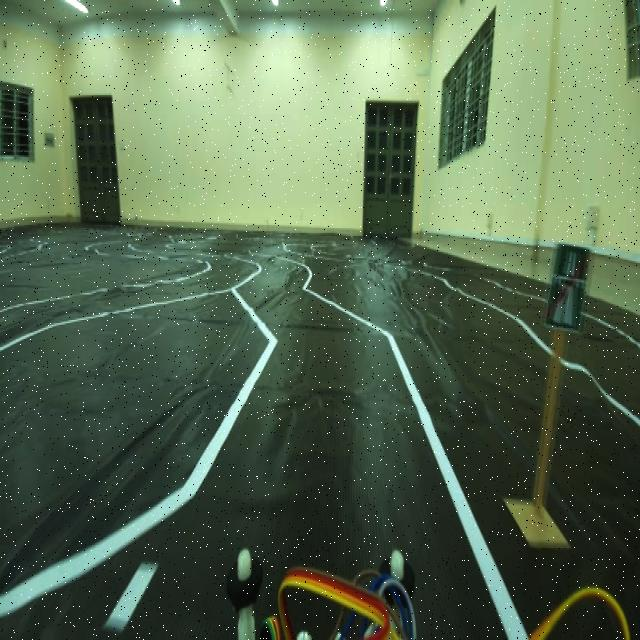highway_exit: (540, 230, 591, 342)
